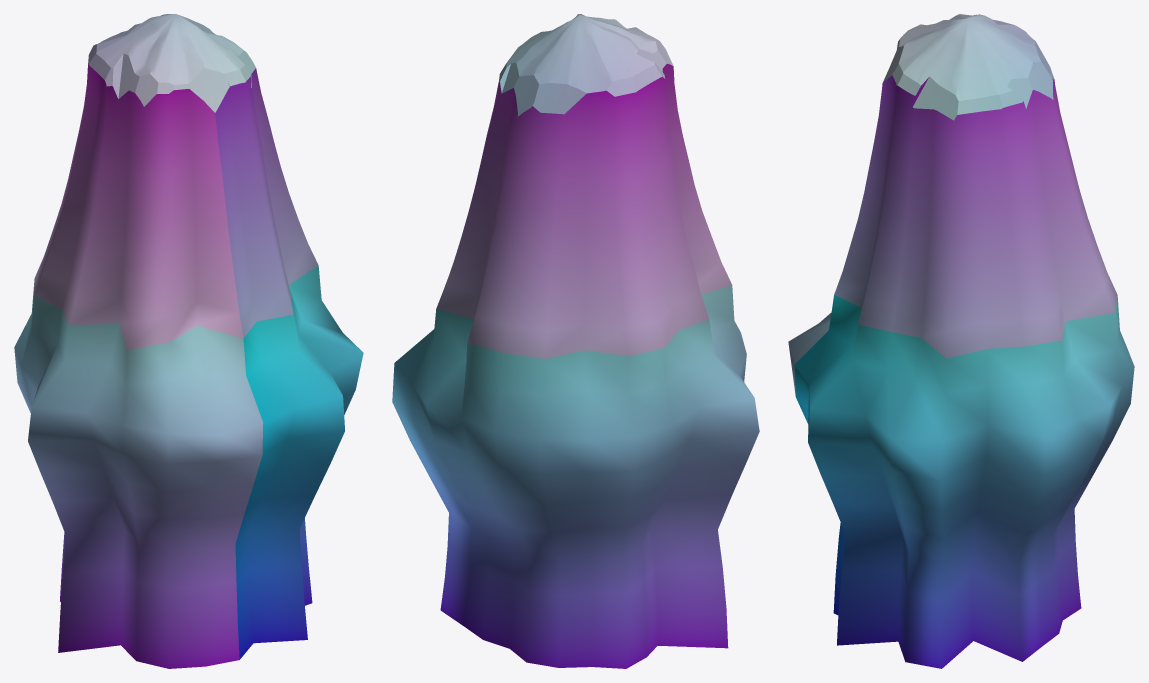
3 renders of one model, left to right at view 1: azimuth 30°, elevation 25°; view 2: azimuth 150°, elevation 25°; view 3: azimuth 270°, elevation 25°, orthographic. The views are drawn at different scales.
Visible parts, largest first — view 1: SM_BM_Ash_Tree_03_half_mid_LOD0; view 2: SM_BM_Ash_Tree_03_half_mid_LOD0; view 3: SM_BM_Ash_Tree_03_half_mid_LOD0.
Boxes of the visible parts, x1,y1,x2,y2 form: SM_BM_Ash_Tree_03_half_mid_LOD0: [14, 14, 363, 668]; SM_BM_Ash_Tree_03_half_mid_LOD0: [392, 14, 759, 668]; SM_BM_Ash_Tree_03_half_mid_LOD0: [788, 14, 1134, 668].
Size of the model in its own units: 1.29 by 2.29 by 1.2.
